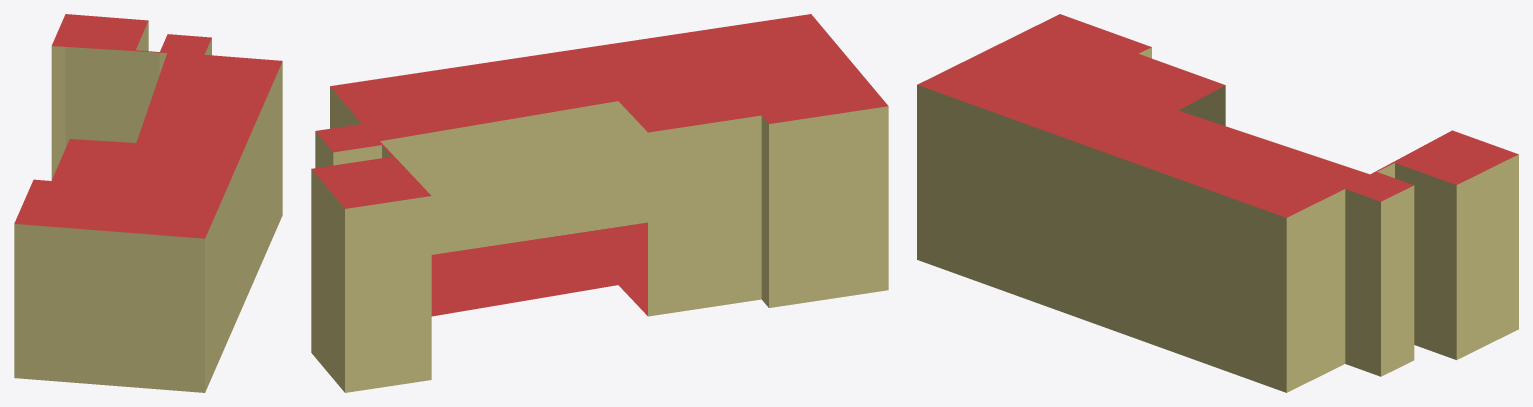
3 renders of one model, left to right at view 1: azimuth 30°, elevation 25°; view 2: azimuth 150°, elevation 25°; view 3: azimuth 270°, elevation 25°, orthographic. The views are drawn at different scales.
Visible parts, largest first — view 1: group_4, group_3; view 2: group_4, group_3, group_5; view 3: group_4, group_3.
Part boxes in pixels (x1,y1,x2,y2): group_4: (14,21,282,392); group_3: (14,14,282,238); group_4: (311,86,888,392); group_3: (311,14,888,208); group_5: (431,222,647,316); group_4: (917,47,1518,392); group_3: (917,14,1518,217).
Size of the model in its own units: 18.03 by 22.48 by 7.21.
